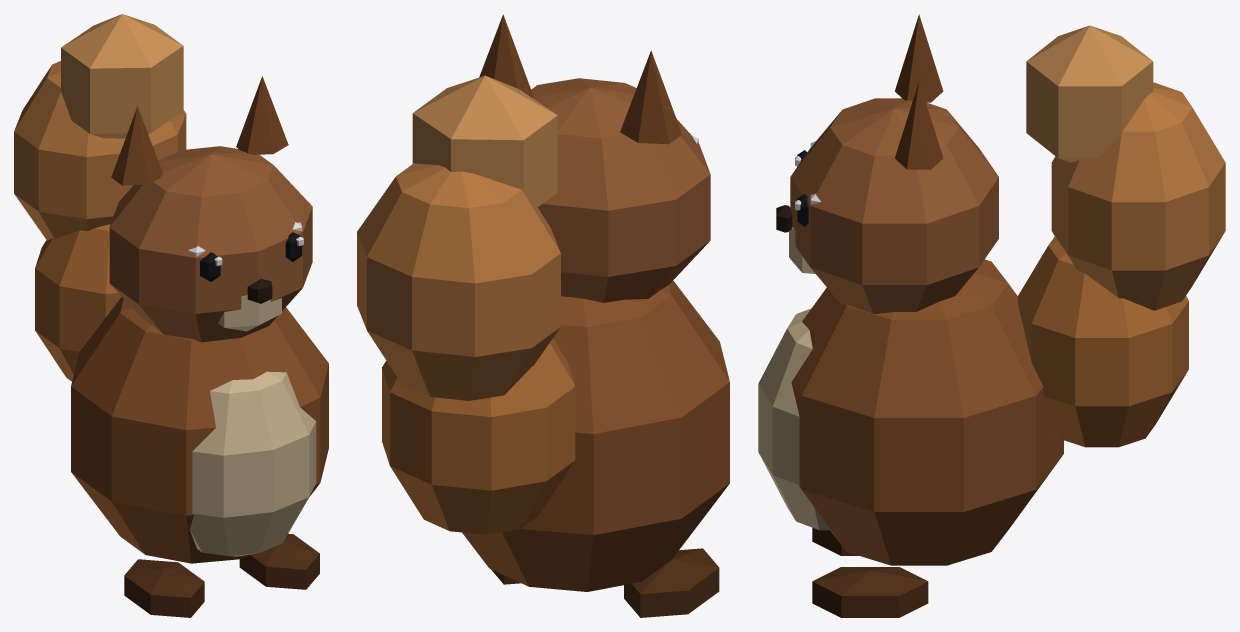
Rendered from critter_squirrel.glb.
3 renders of one model, left to right at view 1: azimuth 30°, elevation 25°; view 2: azimuth 150°, elevation 25°; view 3: azimuth 270°, elevation 25°, orthographic. The views are drawn at different scales.
Parts seen in each view (by area): view 1: squirrel; view 2: squirrel; view 3: squirrel.
Part boxes in pixels (<box>): squirrel: <box>14,14,328,617</box>; squirrel: <box>357,14,729,617</box>; squirrel: <box>758,14,1225,617</box>.
Bounding box in the file's own units: 0.4523 × 1.01 × 0.7663.
